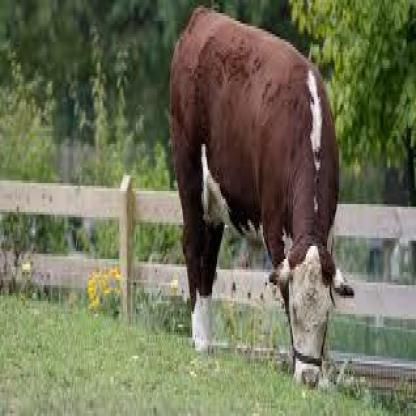cow: (170, 7, 355, 391)
